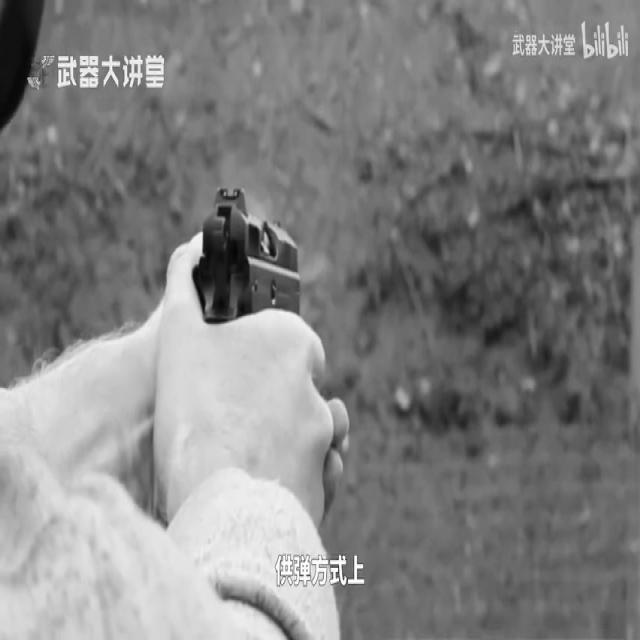Hand-Gun: (181, 174, 313, 356)
